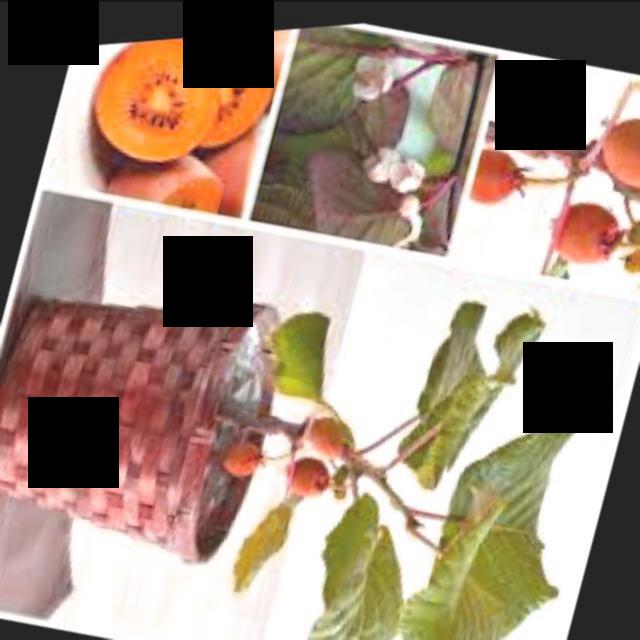kiwi: (541, 195, 633, 279), (592, 113, 640, 206), (475, 146, 528, 214), (303, 409, 362, 462), (289, 451, 340, 504), (222, 432, 270, 481)
